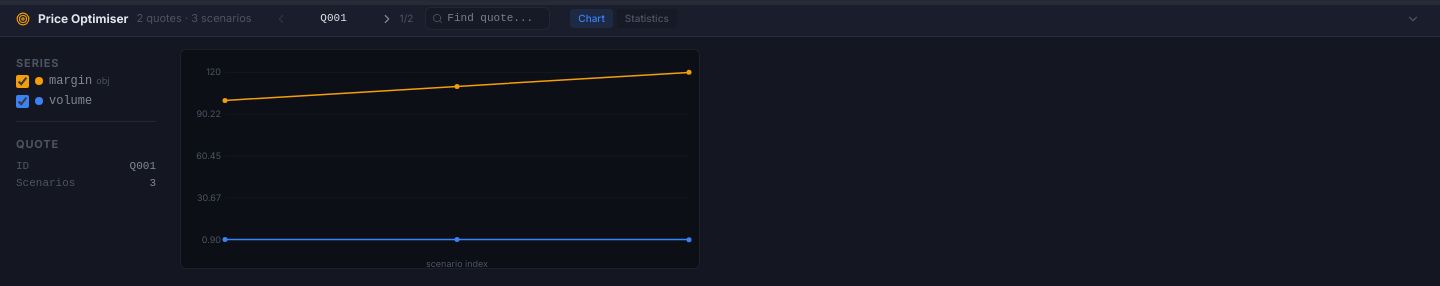
OptimiserDataPreview › Quote navigation › navigates to next quote on right arrow click
Click the 2nd button at (386, 18), box [378,10,396,28]
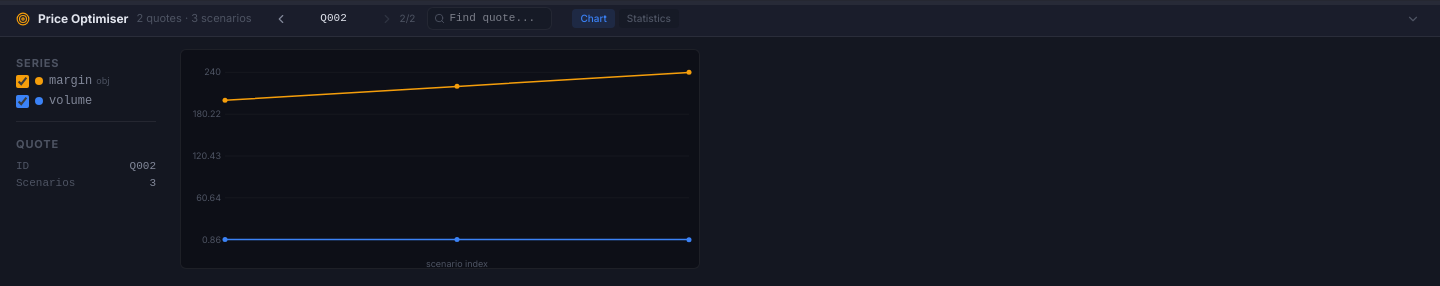
Expected: the text "2/2" is shown, [400,11,415,26]
